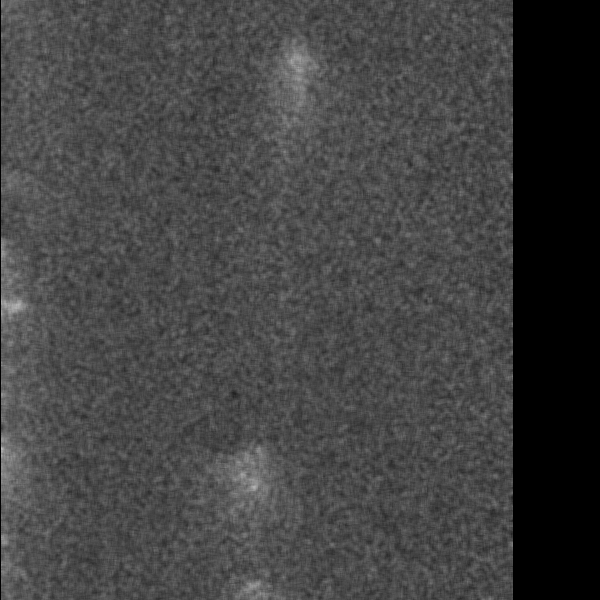spark: (276, 34, 325, 159), (240, 459, 266, 505), (1, 291, 28, 328)
